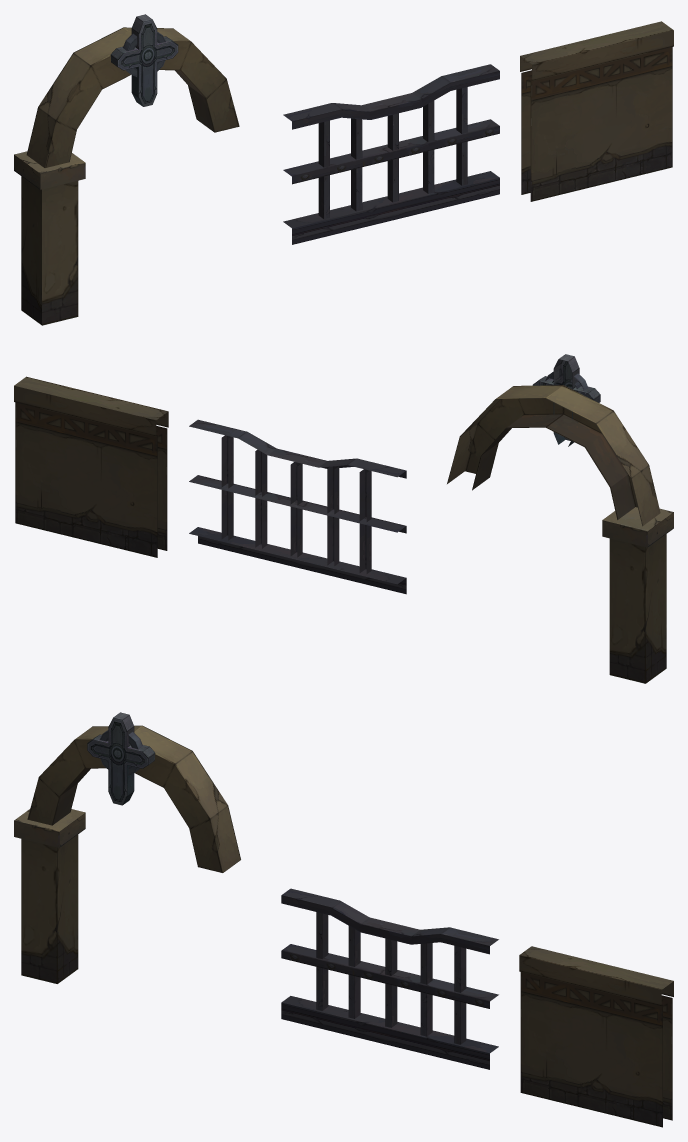
File: 2_ChengZhen_MuDiQiang_01.FBX
The picture shows the model from 3 angles, top to bottom: view 1: azimuth 30°, elevation 25°; view 2: azimuth 150°, elevation 25°; view 3: azimuth 330°, elevation 25°; orthographic projection.
Visible parts, largest first — view 1: 2_ChengZhen_MuDiQiang_01_04, 2_ChengZhen_MuDiQiang_01_03, 2_ChengZhen_MuDiQiang_01_01, 2_ChengZhen_MuDiQiang_01_02, 2_ChengZhen_MuDiQiang_01_05; view 2: 2_ChengZhen_MuDiQiang_01_04, 2_ChengZhen_MuDiQiang_01_03, 2_ChengZhen_MuDiQiang_01_01, 2_ChengZhen_MuDiQiang_01_02, 2_ChengZhen_MuDiQiang_01_05; view 3: 2_ChengZhen_MuDiQiang_01_04, 2_ChengZhen_MuDiQiang_01_03, 2_ChengZhen_MuDiQiang_01_01, 2_ChengZhen_MuDiQiang_01_02, 2_ChengZhen_MuDiQiang_01_05.
Boxes of the visible parts, x1,y1,x2,y2 form: 2_ChengZhen_MuDiQiang_01_04: (520, 21, 673, 201); 2_ChengZhen_MuDiQiang_01_03: (283, 64, 499, 244); 2_ChengZhen_MuDiQiang_01_01: (26, 27, 239, 167); 2_ChengZhen_MuDiQiang_01_02: (14, 151, 85, 325); 2_ChengZhen_MuDiQiang_01_05: (110, 14, 178, 106); 2_ChengZhen_MuDiQiang_01_04: (14, 376, 168, 557); 2_ChengZhen_MuDiQiang_01_03: (189, 419, 406, 594); 2_ChengZhen_MuDiQiang_01_01: (447, 385, 660, 526); 2_ChengZhen_MuDiQiang_01_02: (602, 507, 673, 683); 2_ChengZhen_MuDiQiang_01_05: (532, 354, 600, 446); 2_ChengZhen_MuDiQiang_01_04: (519, 946, 673, 1127); 2_ChengZhen_MuDiQiang_01_03: (281, 888, 498, 1069); 2_ChengZhen_MuDiQiang_01_01: (27, 725, 240, 872); 2_ChengZhen_MuDiQiang_01_02: (14, 809, 85, 983); 2_ChengZhen_MuDiQiang_01_05: (87, 712, 155, 805).
Size of the model in its own units: 1390 by 590 by 108.
